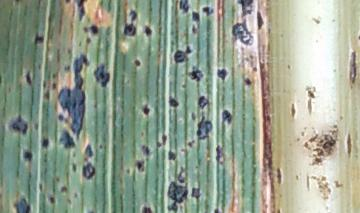tarspot: (57, 52, 90, 139), (303, 123, 338, 170), (195, 94, 214, 141), (165, 180, 190, 213), (230, 17, 255, 49), (91, 62, 112, 88), (7, 112, 29, 136), (56, 126, 78, 150), (122, 9, 138, 37), (172, 44, 193, 65), (303, 83, 317, 114), (348, 49, 358, 86), (189, 11, 204, 35), (74, 1, 90, 23), (243, 54, 258, 75), (186, 66, 204, 83), (80, 162, 96, 181), (12, 197, 30, 213), (236, 1, 254, 16), (214, 143, 226, 165), (255, 8, 266, 32), (344, 130, 353, 159), (82, 144, 95, 164), (220, 108, 234, 124), (275, 166, 285, 186), (34, 30, 45, 48), (166, 94, 180, 108), (167, 147, 178, 164), (176, 165, 186, 183), (216, 67, 228, 82), (134, 159, 147, 172), (139, 143, 152, 156), (189, 186, 202, 199), (21, 149, 33, 163), (201, 5, 215, 17), (69, 160, 80, 175), (178, 1, 191, 13), (41, 88, 52, 102), (54, 48, 63, 65), (310, 14, 321, 27), (332, 178, 343, 190), (89, 23, 99, 36), (24, 69, 32, 85), (289, 103, 297, 119), (160, 133, 169, 147), (304, 174, 311, 192), (141, 104, 152, 115), (143, 24, 152, 37), (141, 204, 153, 213), (41, 136, 50, 148), (190, 109, 198, 122), (37, 181, 45, 194), (62, 64, 72, 74), (40, 79, 48, 91), (133, 58, 142, 68), (243, 76, 252, 86), (59, 184, 68, 194), (51, 69, 58, 81), (81, 25, 89, 35), (84, 35, 92, 45), (47, 195, 55, 205), (186, 139, 196, 147), (154, 139, 162, 148), (98, 142, 105, 150), (337, 113, 343, 122), (1, 69, 4, 86), (212, 206, 219, 213), (51, 82, 57, 90), (126, 167, 131, 176), (37, 62, 42, 70), (275, 207, 281, 213), (286, 63, 291, 70), (63, 1, 73, 4), (357, 33, 360, 42), (14, 1, 20, 3), (264, 1, 271, 2)
